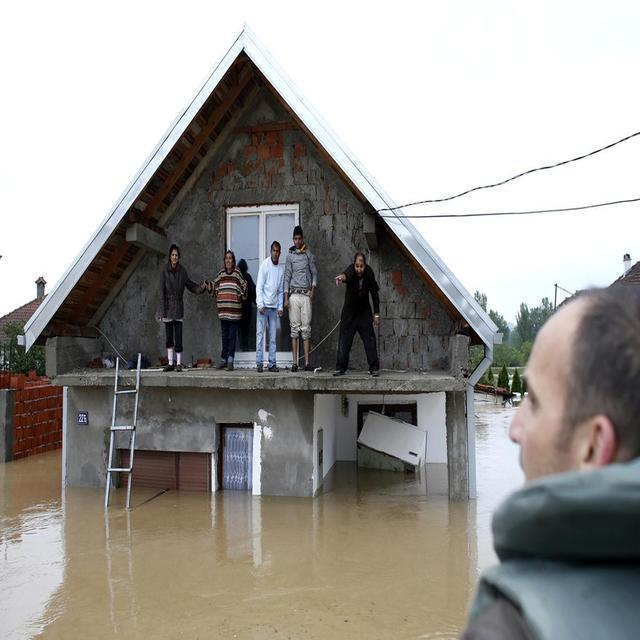Person-RiskLevel1: (329, 253, 393, 378), (150, 244, 206, 372), (203, 249, 253, 386), (284, 229, 328, 371), (255, 237, 289, 387)
